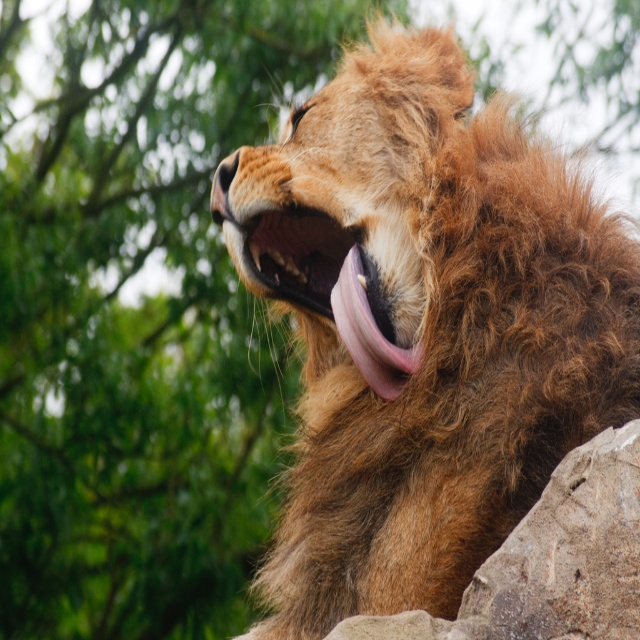Lion: (210, 0, 640, 640)
